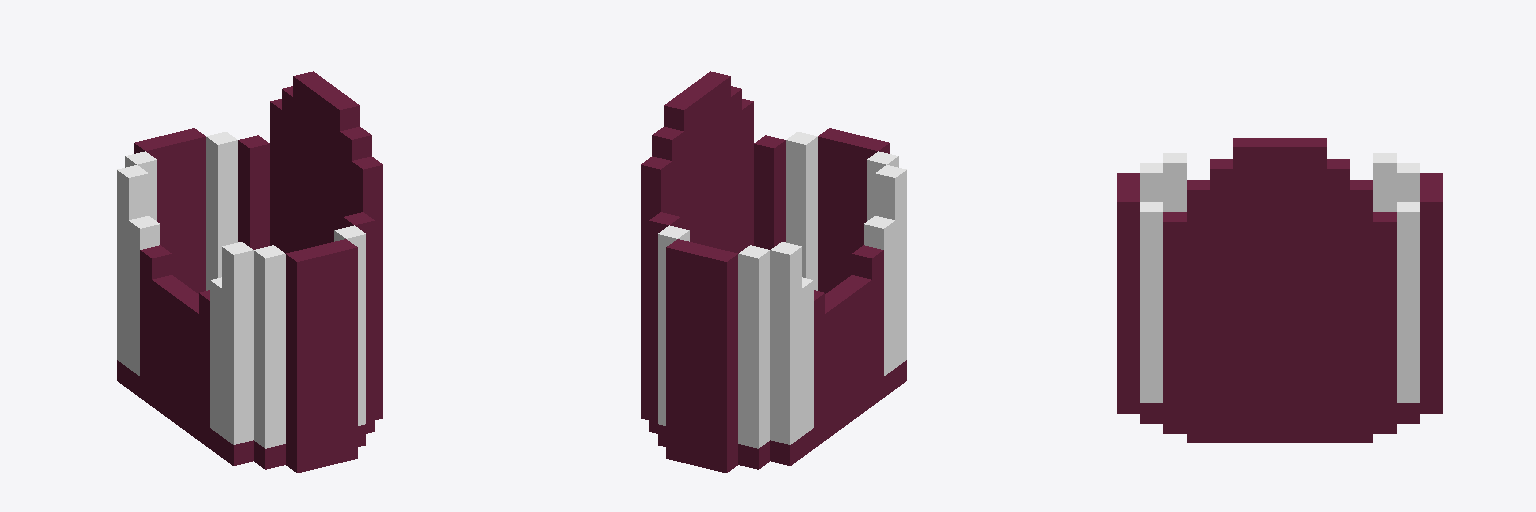
3 renders of one model, left to right at view 1: azimuth 30°, elevation 25°; view 2: azimuth 150°, elevation 25°; view 3: azimuth 270°, elevation 25°, orthographic.
Parts seen in each view (by area): view 1: object 1; view 2: object 1; view 3: object 1.
Part boxes in pixels (x1,y1,x2,y2): object 1: (117,71,382,472); object 1: (641,71,906,472); object 1: (1117,138,1442,442).
Bounding box in the file's own units: 0.8 × 1.4 × 1.4.
Materials: 1 (1 with a texture image).